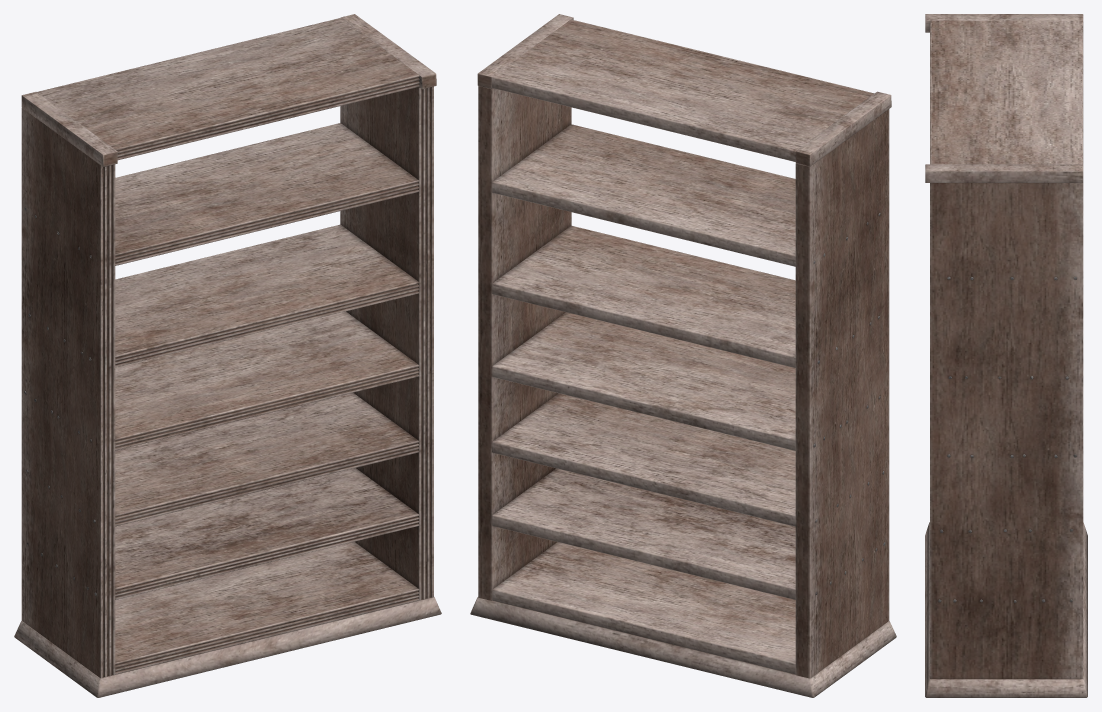
File: wooden_bookshelf_worn_lod2.glb
3 renders of one model, left to right at view 1: azimuth 30°, elevation 25°; view 2: azimuth 150°, elevation 25°; view 3: azimuth 270°, elevation 25°, orthographic. The views are drawn at different scales.
Visible parts, largest first — view 1: wooden_bookshelf_worn; view 2: wooden_bookshelf_worn; view 3: wooden_bookshelf_worn.
Part boxes in pixels (box(x1,y1,x2,y2)): wooden_bookshelf_worn: box(14, 14, 441, 697); wooden_bookshelf_worn: box(470, 14, 896, 697); wooden_bookshelf_worn: box(925, 14, 1087, 697).
Size of the model in its own units: 1.37 by 2.06 by 0.5813.
1 material, 1 textured.
